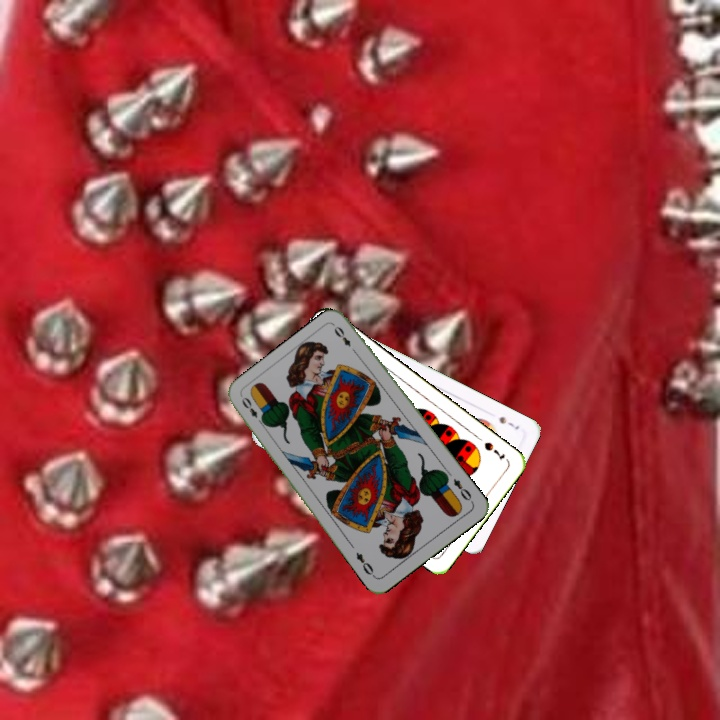EO: (237, 393, 268, 428), (449, 474, 476, 505)
S7: (480, 438, 508, 463), (495, 412, 522, 432)
